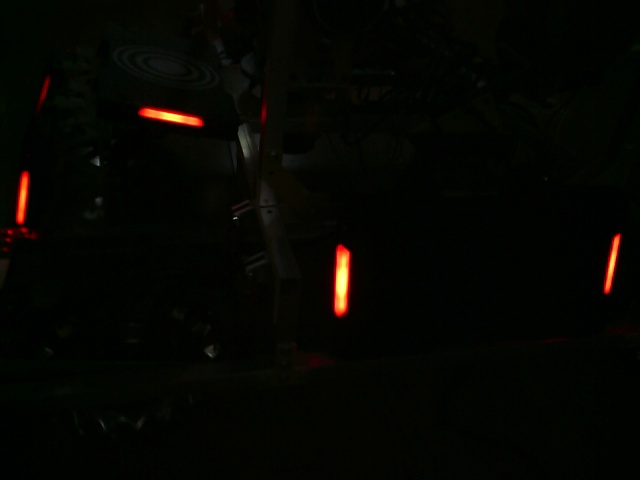lamp: (330, 243, 351, 318), (604, 233, 622, 303), (16, 171, 31, 224)
